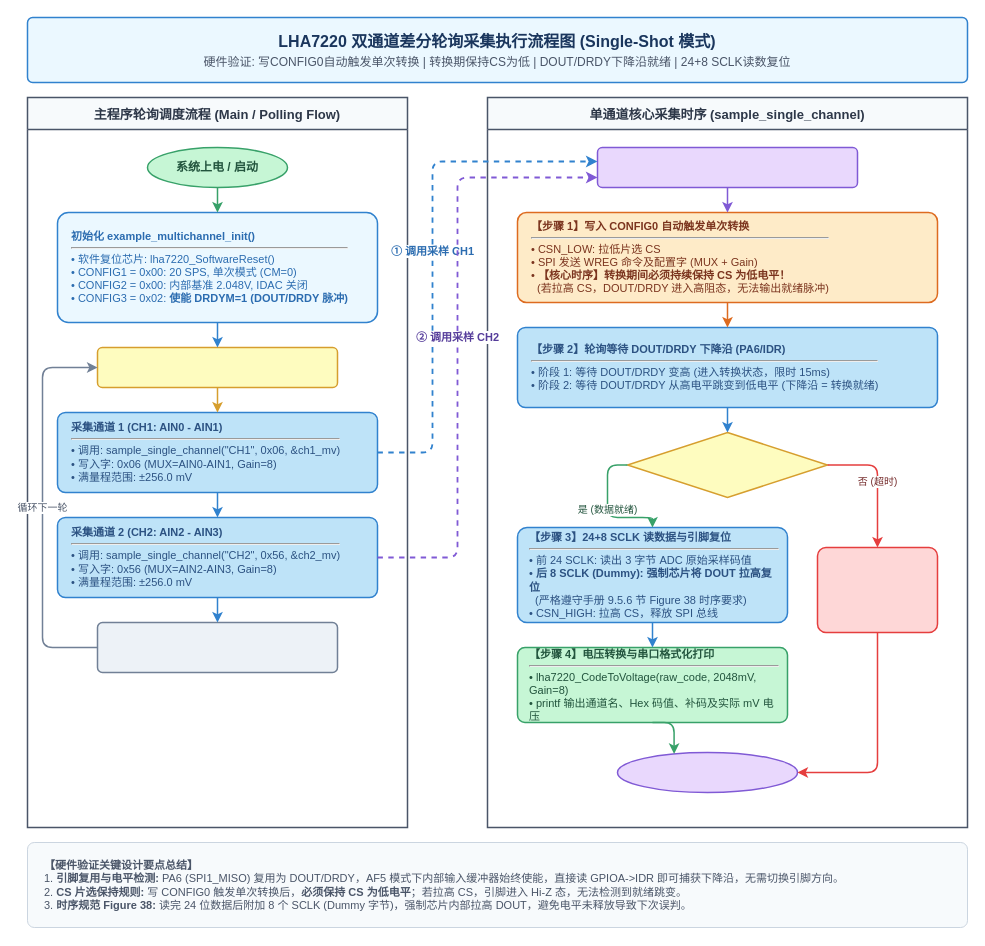
This 985x946 diagram has some shape labels left out. The centre of each missing label's shape, as x and y in pixels:
"子流程入口: (channel_name, config0_val)" goes at point 727,167.
"子流程结束 (返回 1 或 0)" goes at point 707,772.
"延时等待: delay_ms(800) 保持轮询采集周期，便于上位机/串口监视" goes at point 217,647.
"是否在 100ms 内 捕获下降沿？" goes at point 727,464.
"超时保护 • CSN_HIGH (拉高) • 串口打印错误 • 返回 0 (失败)" goes at point 877,589.
"进入主循环 example_multichannel_loop()" goes at point 217,367.
